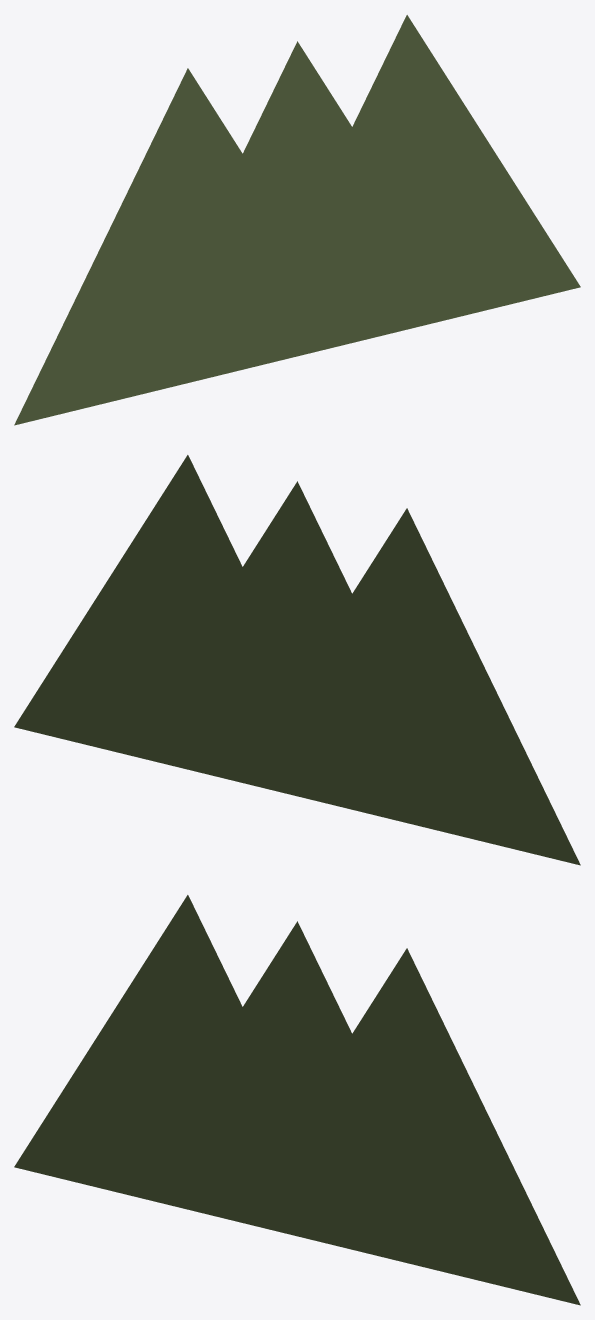
File: grass.glb
The picture shows the model from 3 angles, top to bottom: view 1: azimuth 30°, elevation 25°; view 2: azimuth 150°, elevation 25°; view 3: azimuth 330°, elevation 25°; orthographic projection.
Parts seen in each view (by area): view 1: wind-grass-2-surface, wind-grass-1-surface, wind-grass-0-surface; view 2: wind-grass-2-surface, wind-grass-1-surface, wind-grass-0-surface; view 3: wind-grass-0-surface, wind-grass-1-surface, wind-grass-2-surface.
Part boxes in pixels (<box>): wind-grass-2-surface: <box>233,15,580,371</box>; wind-grass-1-surface: <box>124,41,470,398</box>; wind-grass-0-surface: <box>14,68,263,425</box>; wind-grass-2-surface: <box>14,455,361,811</box>; wind-grass-1-surface: <box>124,481,470,838</box>; wind-grass-0-surface: <box>239,508,580,865</box>; wind-grass-0-surface: <box>14,895,361,1251</box>; wind-grass-1-surface: <box>130,921,470,1278</box>; wind-grass-2-surface: <box>338,948,580,1305</box>.
Size of the model in its own units: 0.621 by 0.33 by 0.
